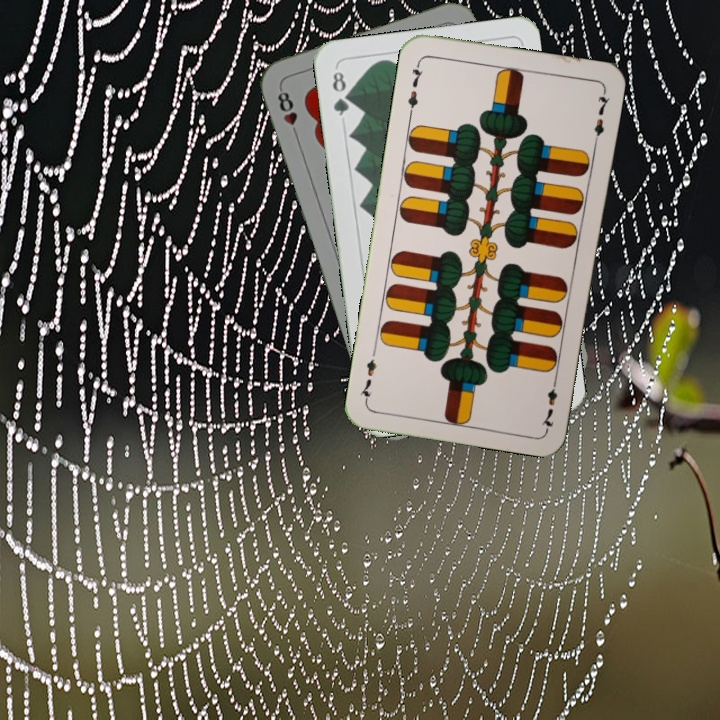E7: (404, 58, 426, 117), (538, 372, 560, 431)
G8: (328, 67, 353, 119)
H8: (273, 83, 302, 141)
